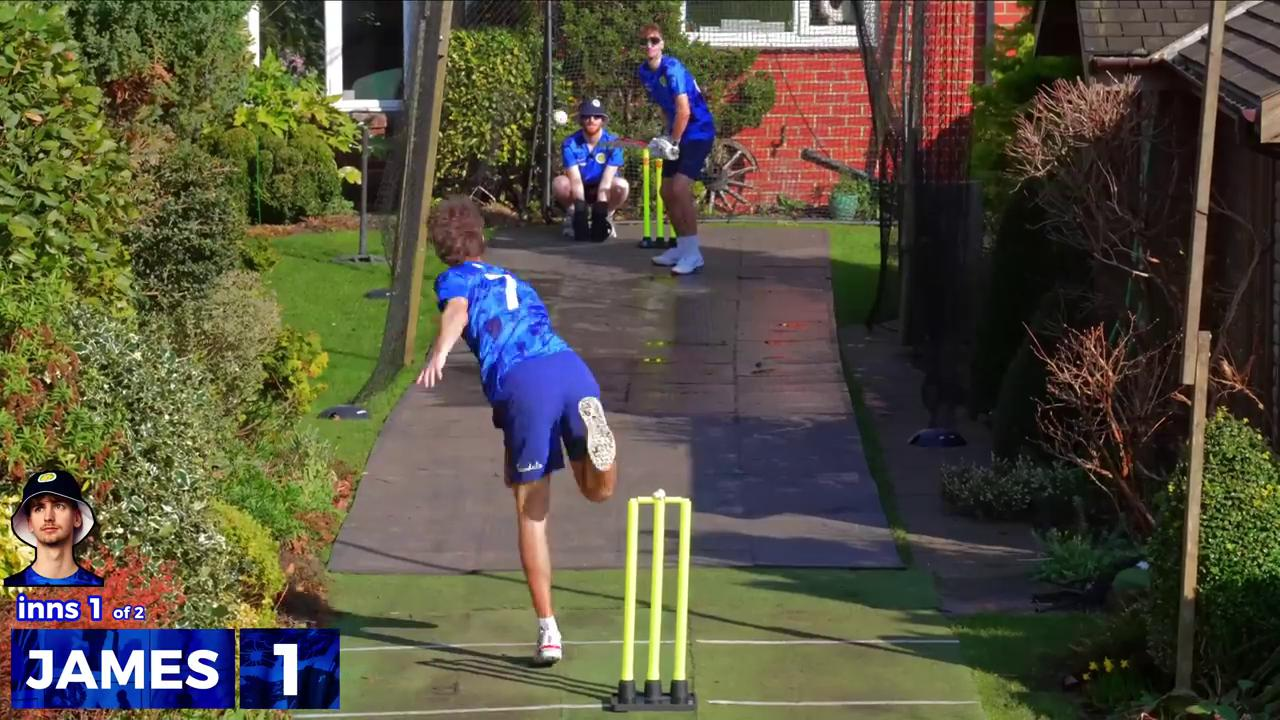ball: (547, 106, 575, 132)
